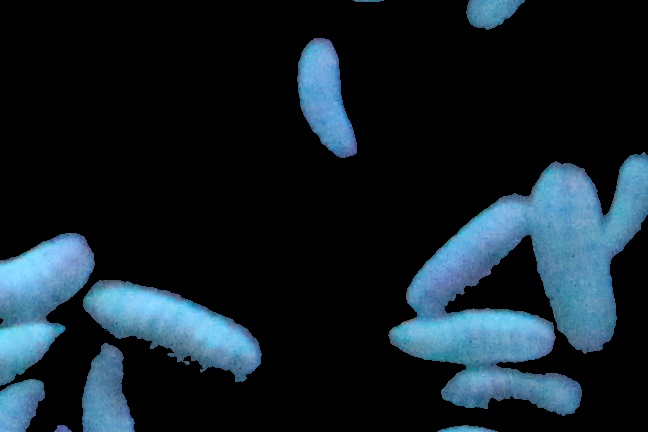larvae: (525, 156, 617, 353), (82, 285, 260, 383), (406, 202, 529, 316), (1, 231, 93, 320), (442, 366, 583, 423), (390, 312, 553, 361), (299, 41, 358, 161), (73, 341, 138, 432), (598, 154, 648, 265), (1, 322, 69, 387), (1, 377, 51, 432)
